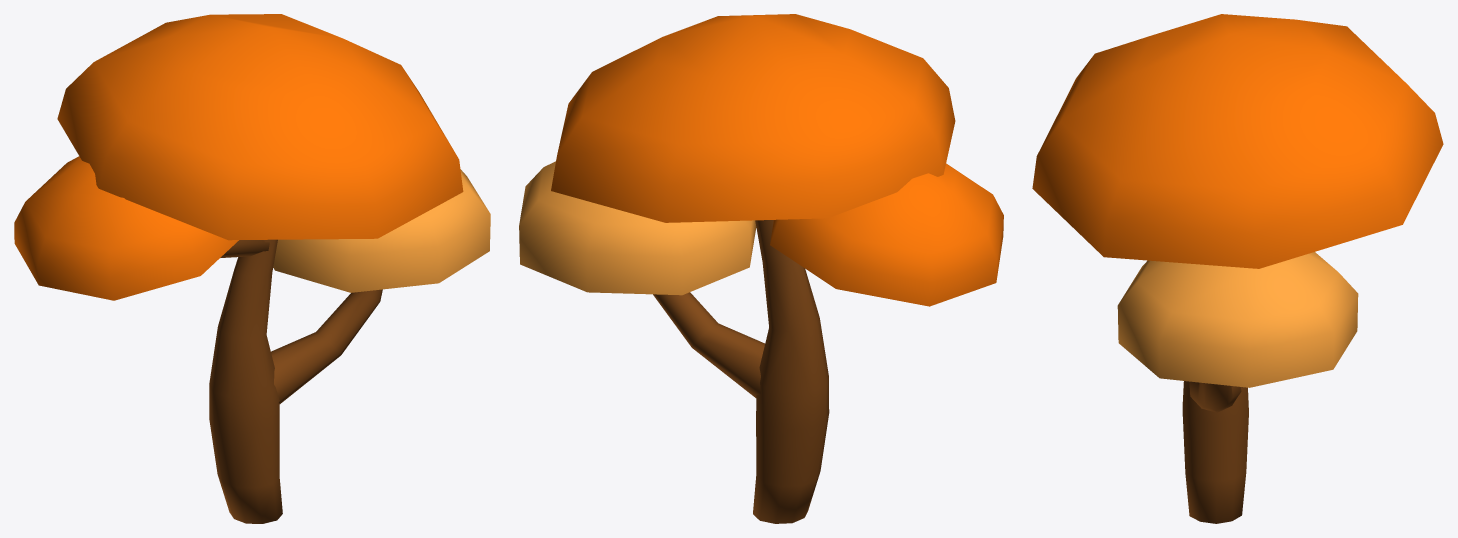
Rendered from Tree_15_Fall.fbx.
3 renders of one model, left to right at view 1: azimuth 30°, elevation 25°; view 2: azimuth 150°, elevation 25°; view 3: azimuth 270°, elevation 25°, orthographic. The views are drawn at different scales.
Visible parts, largest first — view 1: Tree_15_p2_Fall, Tree_15_p1_Fall; view 2: Tree_15_p2_Fall, Tree_15_p1_Fall; view 3: Tree_15_p2_Fall, Tree_15_p1_Fall.
Boxes of the visible parts, x1,y1,x2,y2 form: Tree_15_p2_Fall: [14, 14, 490, 300]; Tree_15_p1_Fall: [209, 239, 382, 523]; Tree_15_p2_Fall: [519, 14, 1003, 306]; Tree_15_p1_Fall: [653, 220, 829, 523]; Tree_15_p2_Fall: [1032, 14, 1443, 387]; Tree_15_p1_Fall: [1182, 381, 1248, 523].
Size of the model in its own units: 505 by 522 by 400.
